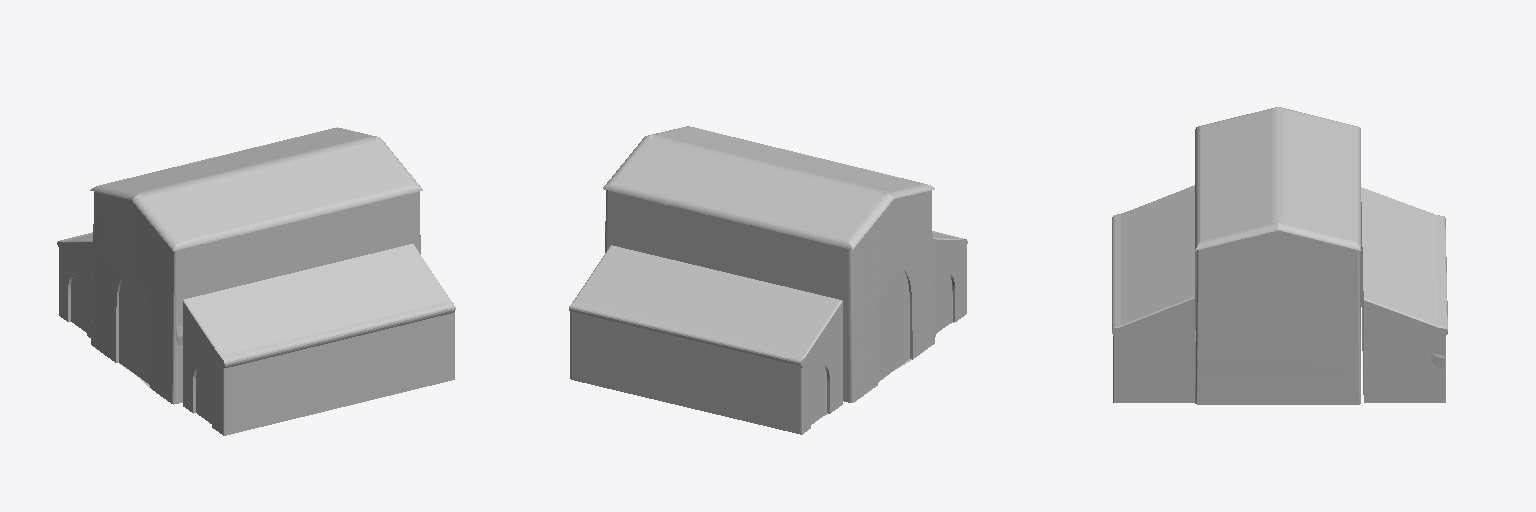
The model's file is big_church.obj.
The picture shows the model from 3 angles: view 1: azimuth 30°, elevation 25°; view 2: azimuth 150°, elevation 25°; view 3: azimuth 270°, elevation 25°; orthographic projection.
Parts seen in each view (by area): view 1: Cube.002_Cube.003, Cube.003_Cube.004, Cube_Cube.001, Cube.004_Cube.005, Cube.008_Cube.010, Cube.001_Cube.002, Cube.006_Cube.008, Cube.007_Cube.009; view 2: Cube.002_Cube.003, Cube.003_Cube.004, Cube.001_Cube.002, Cube.005_Cube.006, Cube.008_Cube.010, Cube_Cube.001, Cube.007_Cube.009, Cube.006_Cube.008; view 3: Cube.002_Cube.003, Cube.003_Cube.004, Cube.005_Cube.006, Cube.004_Cube.005, Cube.001_Cube.002, Cube_Cube.001.
Boxes of the visible parts, <box> form: Cube.002_Cube.003: <box>91,191,420,404</box>; Cube.003_Cube.004: <box>90,127,422,250</box>; Cube_Cube.001: <box>183,302,454,435</box>; Cube.004_Cube.005: <box>183,244,455,366</box>; Cube.008_Cube.010: <box>119,273,150,384</box>; Cube.001_Cube.002: <box>57,241,92,337</box>; Cube.006_Cube.008: <box>71,274,86,332</box>; Cube.007_Cube.009: <box>196,365,211,423</box>; Cube.002_Cube.003: <box>605,190,934,402</box>; Cube.003_Cube.004: <box>603,126,934,249</box>; Cube.001_Cube.002: <box>570,302,842,434</box>; Cube.005_Cube.006: <box>569,245,842,365</box>; Cube.008_Cube.010: <box>878,269,909,381</box>; Cube_Cube.001: <box>933,239,967,336</box>; Cube.007_Cube.009: <box>936,274,952,333</box>; Cube.006_Cube.008: <box>811,365,826,424</box>; Cube.002_Cube.003: <box>1195,230,1360,404</box>; Cube.003_Cube.004: <box>1195,107,1360,250</box>; Cube.005_Cube.006: <box>1361,187,1447,329</box>; Cube.004_Cube.005: <box>1112,185,1194,329</box>; Cube.001_Cube.002: <box>1361,202,1447,402</box>; Cube_Cube.001: <box>1112,214,1194,402</box>.
Bounding box in the file's own units: 285 × 198 × 332.